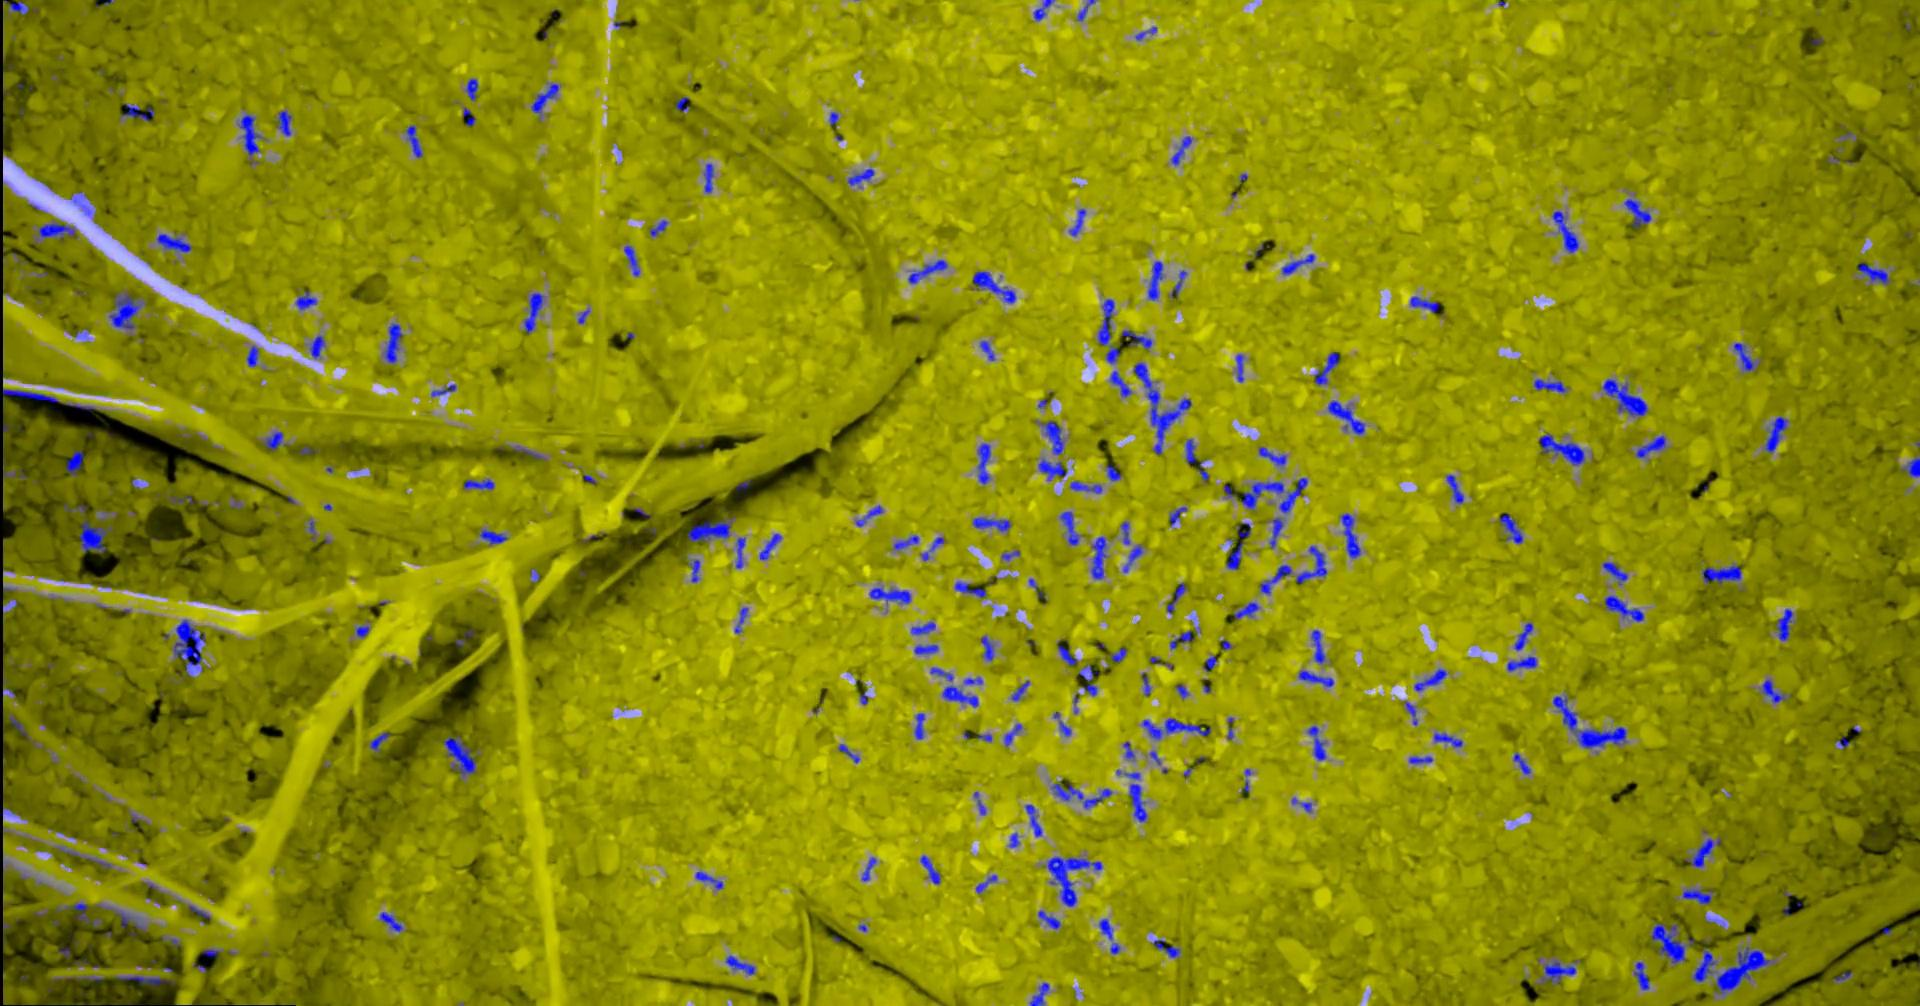ant: (1135, 362, 1192, 453), (1554, 695, 1628, 748), (1049, 856, 1103, 906), (1717, 946, 1771, 993), (65, 503, 114, 553), (932, 667, 980, 706), (1604, 379, 1650, 417), (175, 619, 207, 672), (1117, 768, 1148, 821), (1053, 782, 1112, 808), (1144, 718, 1211, 739), (1540, 433, 1586, 465), (974, 271, 1017, 304), (1652, 923, 1688, 963), (444, 734, 477, 776), (4, 423, 28, 480), (1, 387, 60, 410), (1330, 400, 1366, 434), (1297, 545, 1328, 583), (1227, 522, 1252, 569), (110, 293, 143, 329), (1243, 481, 1285, 508), (57, 903, 103, 927), (690, 517, 733, 542), (240, 114, 262, 164), (1554, 210, 1580, 251), (1280, 478, 1309, 513), (1688, 838, 1723, 868), (1606, 594, 1644, 621), (1261, 564, 1293, 594), (1187, 439, 1210, 481), (909, 259, 949, 283), (532, 83, 560, 116), (1342, 513, 1363, 558), (1543, 959, 1578, 983), (1316, 351, 1341, 384), (1098, 298, 1116, 345), (524, 292, 545, 333), (1766, 417, 1789, 452), (1625, 198, 1652, 227), (116, 911, 147, 935), (1043, 420, 1065, 453), (1694, 948, 1717, 981), (1100, 918, 1121, 953), (1092, 535, 1109, 579), (1859, 262, 1891, 285), (1703, 565, 1743, 583), (1283, 253, 1316, 274), (1415, 668, 1448, 690), (41, 222, 77, 241), (386, 323, 404, 362), (1637, 434, 1667, 457), (157, 232, 193, 251), (871, 587, 912, 603), (1501, 513, 1524, 542), (1309, 725, 1328, 760), (1168, 582, 1189, 614), (1735, 342, 1757, 370), (1062, 511, 1079, 545), (1040, 459, 1068, 480), (1149, 260, 1164, 300), (1172, 136, 1192, 165), (922, 855, 942, 884), (123, 103, 156, 121), (1123, 330, 1153, 349), (761, 533, 783, 559), (1604, 561, 1629, 584), (1079, 664, 1098, 695), (1111, 370, 1133, 396), (1124, 544, 1144, 572), (1300, 669, 1335, 686), (1777, 608, 1794, 640), (1171, 630, 1203, 648), (922, 536, 945, 560), (1763, 680, 1787, 702), (408, 124, 424, 158), (857, 506, 884, 526), (1059, 639, 1079, 666), (116, 976, 177, 984), (1260, 446, 1288, 465), (974, 517, 1012, 531), (728, 955, 756, 974), (1684, 888, 1716, 904), (1448, 474, 1465, 503), (979, 443, 992, 484), (10, 714, 30, 739), (625, 245, 641, 276), (1411, 296, 1441, 312), (956, 580, 987, 597), (4, 0, 39, 14), (1516, 622, 1534, 650), (850, 168, 875, 187), (1027, 804, 1043, 836), (1172, 269, 1189, 298), (697, 871, 724, 889), (1154, 939, 1181, 956), (371, 730, 391, 753), (381, 911, 404, 931), (1031, 982, 1051, 1005), (1535, 379, 1568, 392), (67, 450, 85, 475), (1509, 655, 1538, 671), (1070, 208, 1087, 235), (1035, 0, 1057, 20), (1313, 629, 1326, 663), (1004, 723, 1023, 746), (189, 904, 212, 923), (1039, 909, 1062, 929), (1271, 517, 1285, 547), (481, 528, 509, 544), (1636, 962, 1651, 989), (1070, 480, 1103, 493), (1236, 602, 1261, 619), (839, 743, 861, 762), (977, 874, 998, 893), (1435, 733, 1464, 747), (1055, 713, 1073, 735), (297, 290, 317, 309), (1012, 680, 1031, 700), (265, 431, 287, 448), (456, 629, 477, 647), (463, 478, 497, 489), (1515, 751, 1531, 774), (278, 111, 293, 135), (1170, 506, 1189, 525), (1079, 0, 1097, 20), (1902, 456, 1920, 476), (1030, 578, 1048, 598), (982, 635, 996, 661), (311, 335, 326, 358), (895, 535, 919, 549), (432, 384, 457, 396), (737, 607, 749, 633), (912, 621, 937, 634), (863, 857, 877, 880), (737, 537, 747, 568), (1293, 796, 1313, 812), (1406, 701, 1418, 725), (1137, 25, 1158, 39), (705, 163, 715, 192), (651, 218, 668, 236), (916, 713, 926, 739), (463, 107, 477, 126), (982, 340, 996, 359), (1107, 344, 1121, 363), (690, 559, 701, 582), (975, 791, 987, 814), (248, 345, 260, 366), (1107, 464, 1123, 480), (916, 644, 940, 654), (469, 77, 479, 100), (1112, 647, 1128, 662), (737, 478, 753, 492), (1204, 655, 1218, 671), (1237, 354, 1244, 381), (169, 495, 196, 503), (1123, 521, 1131, 544), (1143, 672, 1152, 695), (1125, 741, 1137, 758), (677, 97, 691, 111), (1177, 683, 1190, 699), (1410, 756, 1434, 763), (1010, 832, 1021, 847), (203, 948, 222, 956), (357, 625, 370, 636), (965, 677, 984, 683)
